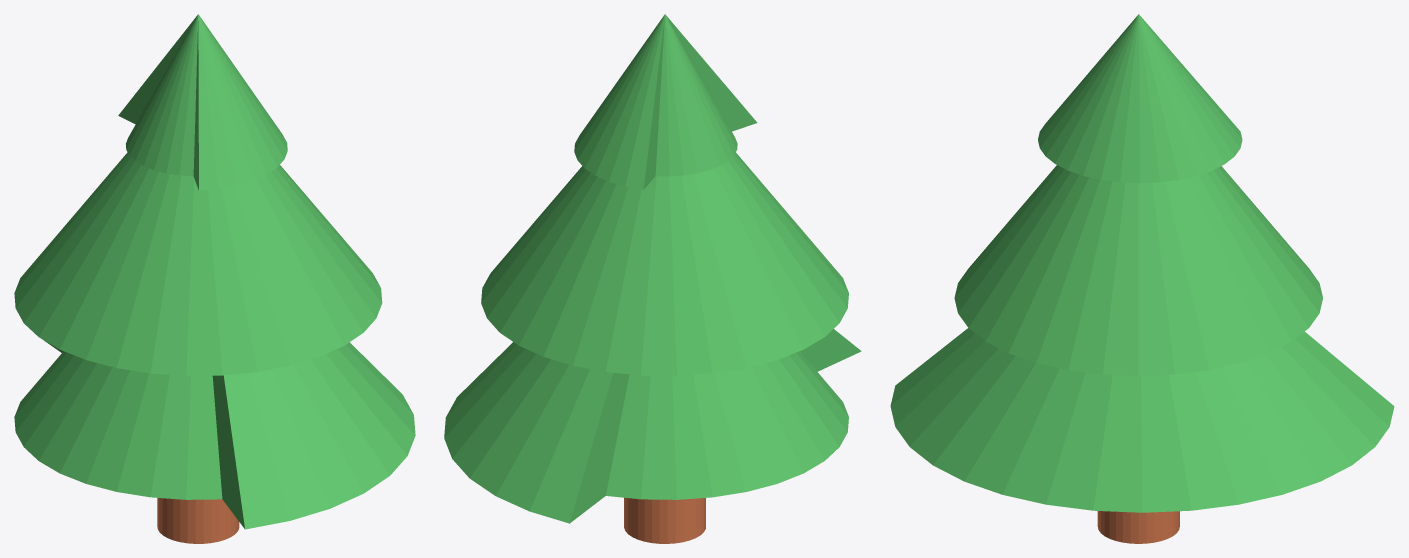
Rendered from test_tree.glb.
3 views of the same model, side by side, from view 1: azimuth 30°, elevation 25°; view 2: azimuth 150°, elevation 25°; view 3: azimuth 270°, elevation 25° (orthographic).
Visible parts, largest first — view 1: Cone.002, Cone.003, Cone, Cylinder; view 2: Cone.002, Cone.003, Cone, Cylinder; view 3: Cone.003, Cone.002, Cone, Cylinder.
Boxes of the visible parts, x1=… form: Cone.002: x1=14, y1=152, x2=382, y2=375; Cone.003: x1=14, y1=340, x2=415, y2=529; Cone: x1=118, y1=14, x2=287, y2=190; Cylinder: x1=157, y1=498, x2=239, y2=543; Cone.002: x1=481, y1=152, x2=848, y2=375; Cone.003: x1=444, y1=329, x2=861, y2=523; Cone: x1=574, y1=14, x2=757, y2=189; Cylinder: x1=624, y1=497, x2=705, y2=543; Cone.003: x1=890, y1=328, x2=1394, y2=512; Cone.002: x1=954, y1=165, x2=1322, y2=375; Cone: x1=1038, y1=14, x2=1242, y2=183; Cylinder: x1=1097, y1=511, x2=1179, y2=543.
Size of the model in its own units: 2.44 by 3.46 by 3.09.
